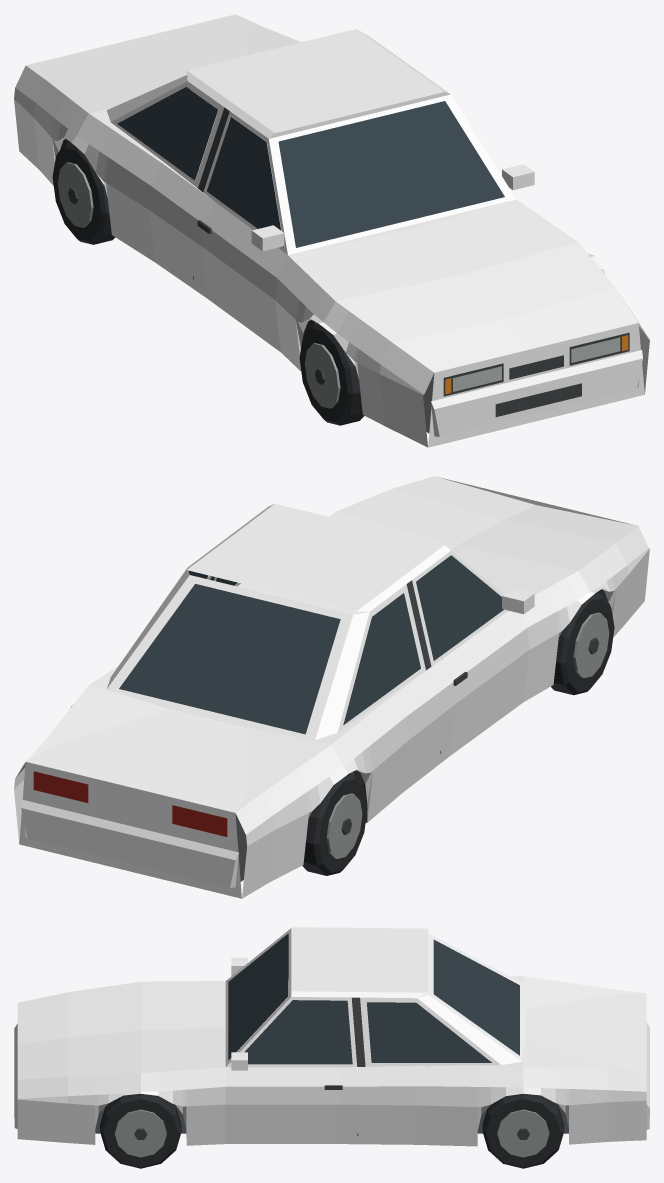
Rendered from castellani_torrente_gt.glb.
3 views of the same model, one above another, from view 1: azimuth 30°, elevation 25°; view 2: azimuth 150°, elevation 25°; view 3: azimuth 270°, elevation 25° (orthographic). The views are drawn at different scales.
Visible parts, largest first — view 1: castellani_torrente_gt; view 2: castellani_torrente_gt; view 3: castellani_torrente_gt.
Part boxes in pixels (left/top/right/bottom): castellani_torrente_gt: left=14, top=14, right=649, bottom=447; castellani_torrente_gt: left=14, top=476, right=649, bottom=898; castellani_torrente_gt: left=14, top=927, right=649, bottom=1168.
Bounding box in the file's own units: 1.78 × 1.27 × 4.57.
8 materials, 1 textured.
